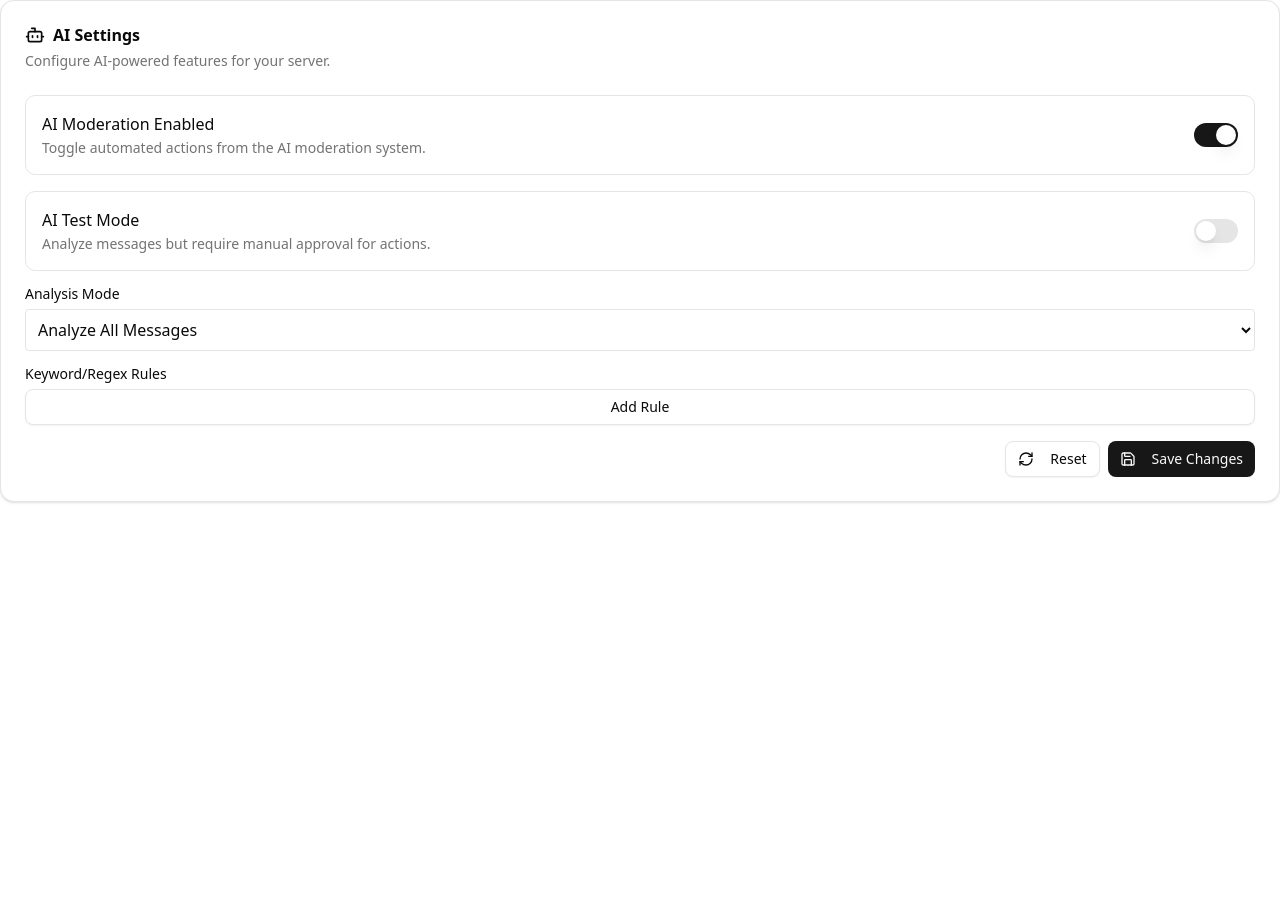
Test: AISettings › allows adding a keyword rule
Click the button "Add Rule": (640, 407) [25, 389, 1255, 425]
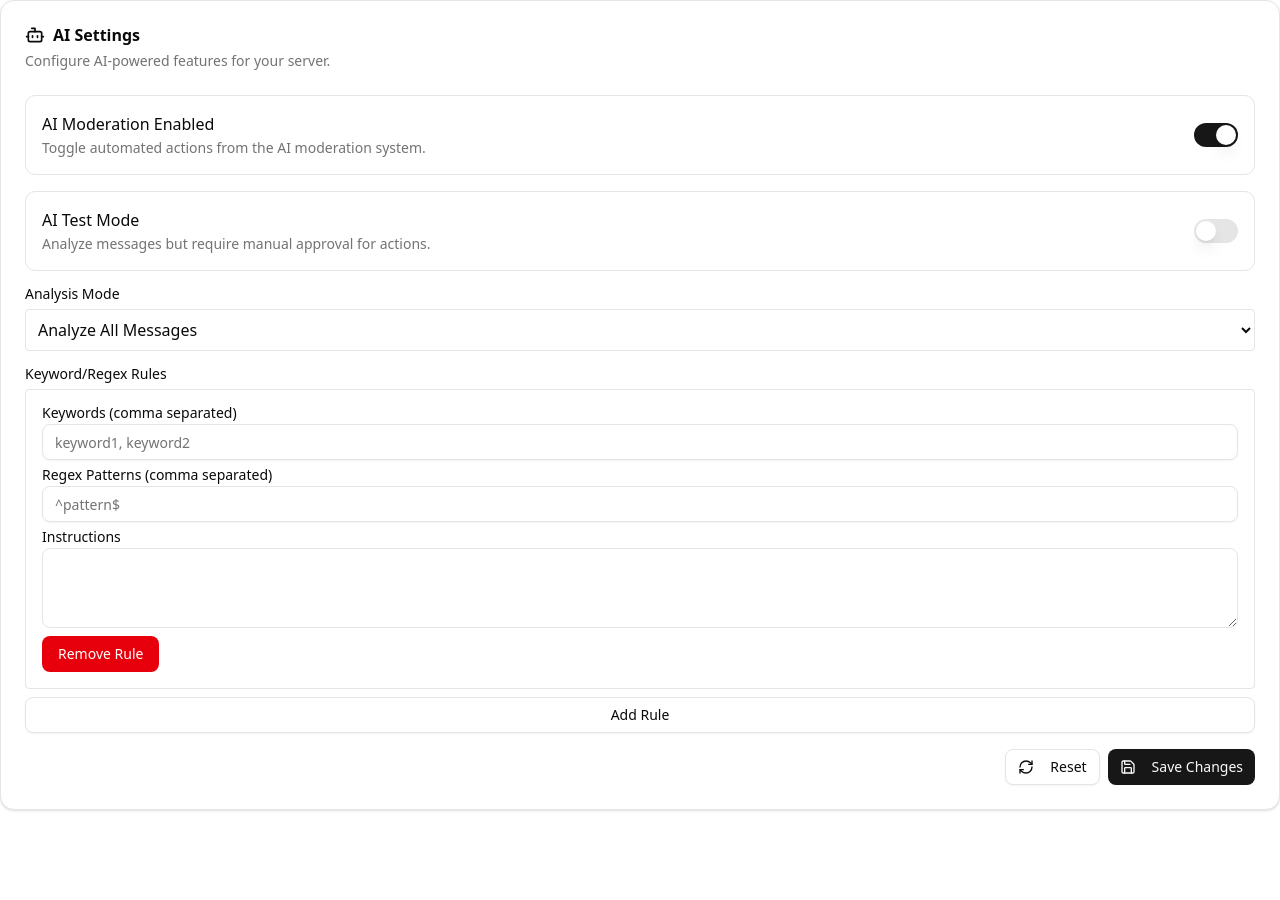
Expected: the number of buttons "Remove Rule" is 1, [42, 636, 159, 672]
